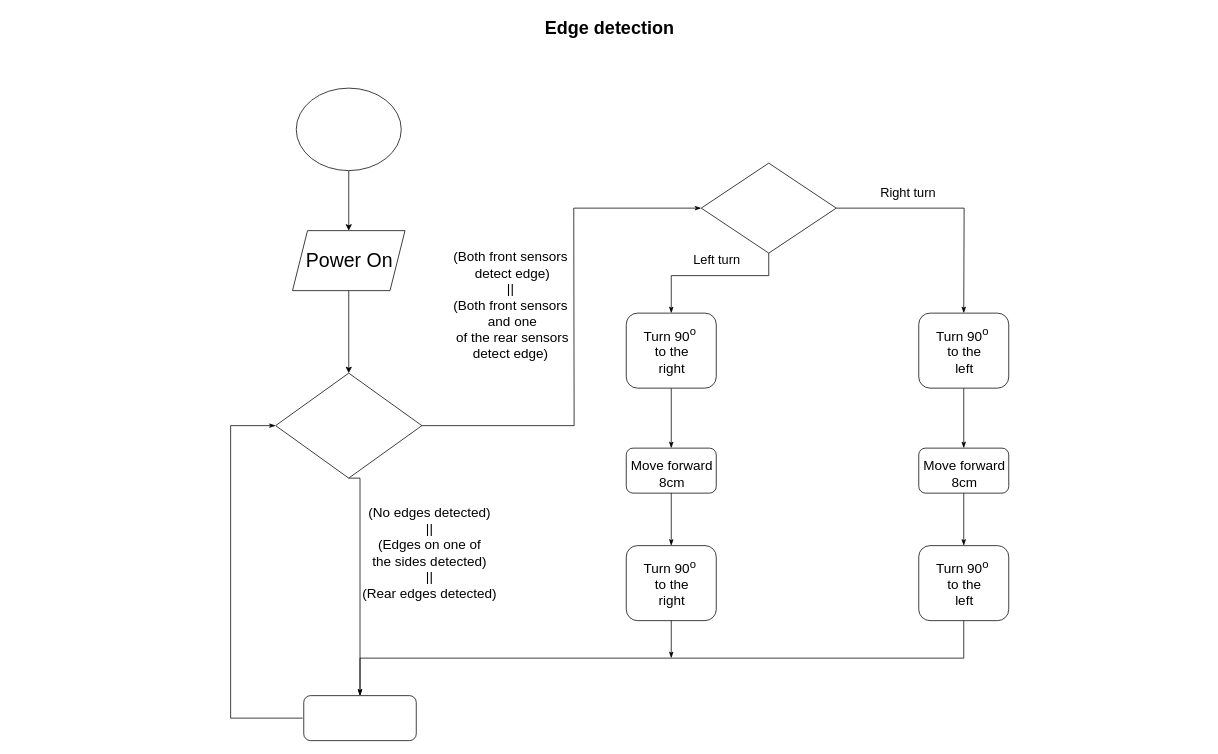
The diagram is 1218 pixels wide and 754 high, and some of its shapes have lost their labels. Each missing label, with the centre of its shape:
Check IR Sensors: point (348, 425)
Last Turn Check: point (768, 207)
Move forward: point (359, 718)
START: point (348, 129)
